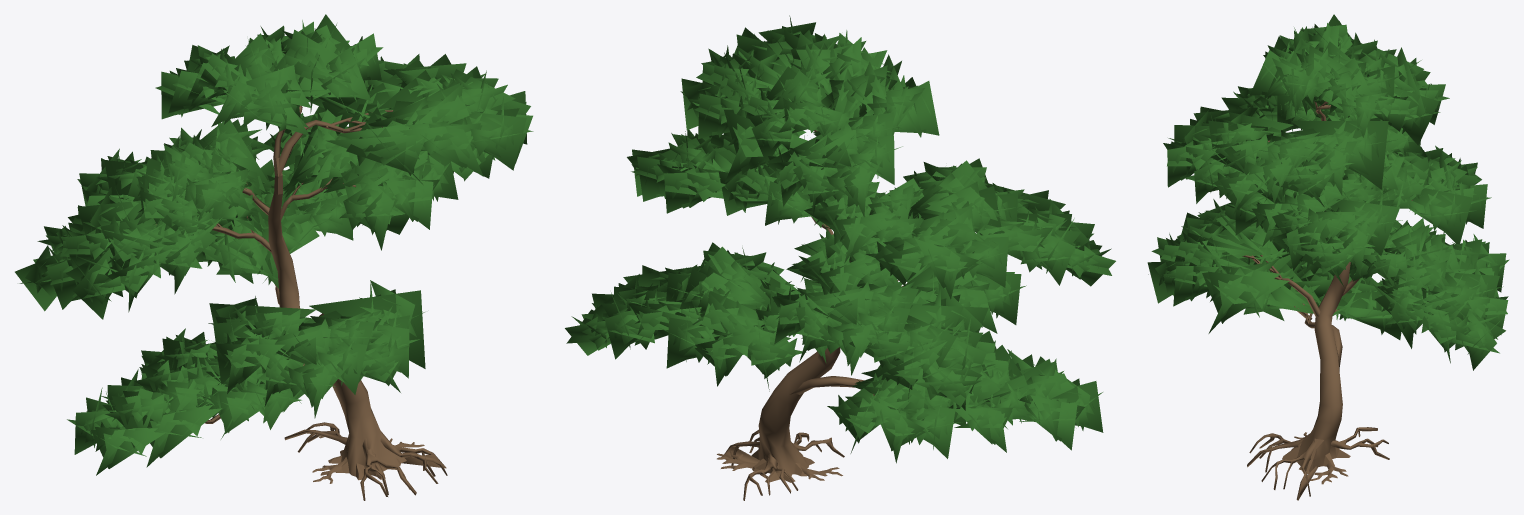
The model's file is Huangshan_Pine_A.obj.
The picture shows the model from 3 angles, left to right: view 1: azimuth 30°, elevation 25°; view 2: azimuth 150°, elevation 25°; view 3: azimuth 270°, elevation 25°; orthographic projection. The views are drawn at different scales.
Visible parts, largest first — view 1: Leaves, Trunk; view 2: Leaves, Trunk; view 3: Leaves, Trunk.
Boxes of the visible parts, x1,y1,x2,y2 form: Leaves: [15, 14, 533, 475]; Trunk: [156, 105, 447, 500]; Leaves: [565, 15, 1115, 463]; Trunk: [717, 130, 903, 500]; Leaves: [1147, 14, 1509, 370]; Trunk: [1242, 101, 1412, 500].
Size of the model in its own units: 50.22 by 48.4 by 38.53.
